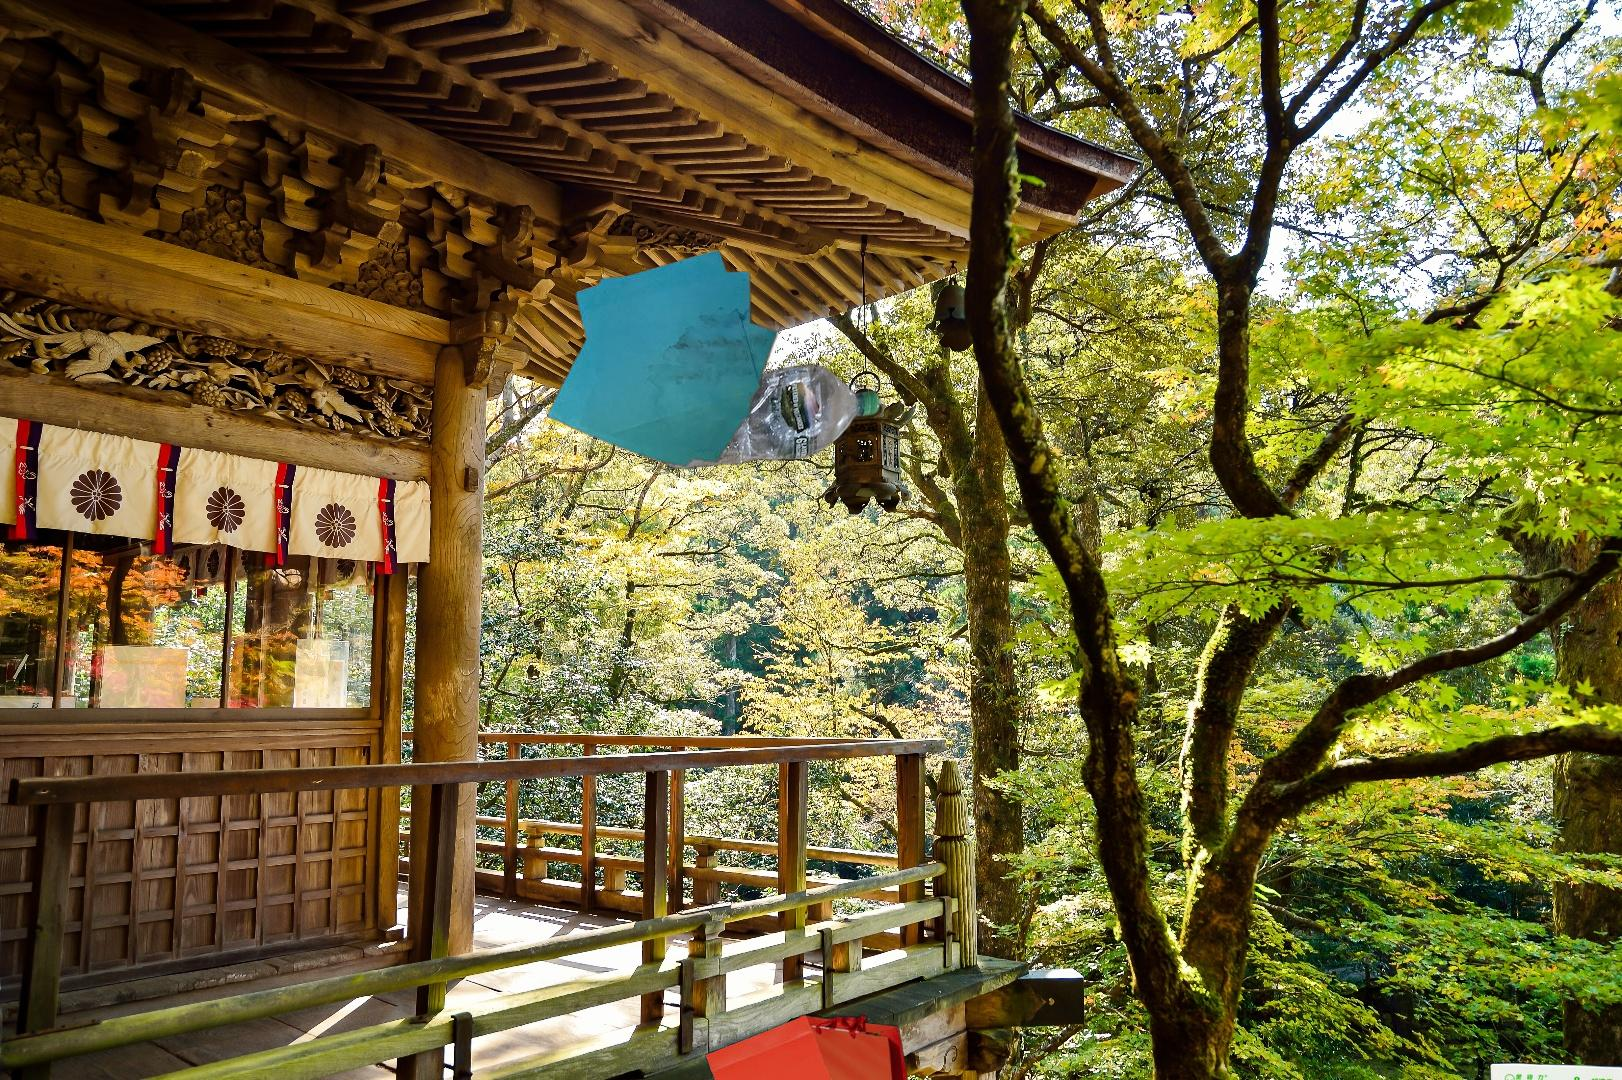battery: (1483, 1060, 1622, 1080)
paper: (543, 246, 782, 470)
paper-bag: (704, 1012, 912, 1080)
plastic-bottles: (641, 360, 885, 472)
